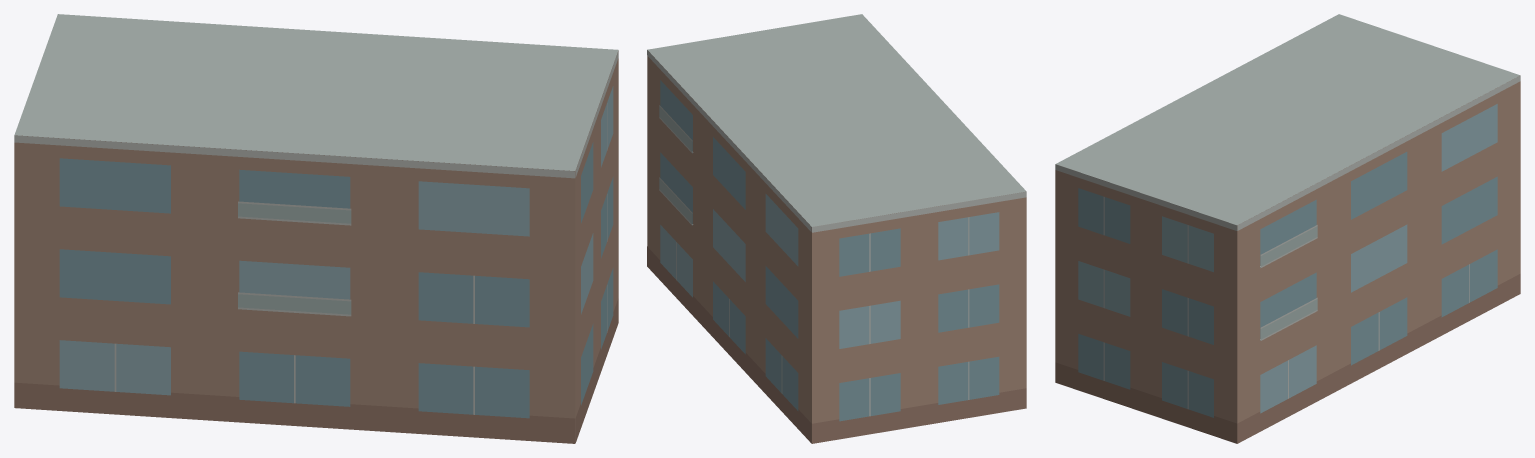
File: residential-4a49e6c8-af27-4ba0-b9b0-89cf427d0d67.glb
3 views of the same model, side by side, from view 1: azimuth 30°, elevation 25°; view 2: azimuth 150°, elevation 25°; view 3: azimuth 270°, elevation 25° (orthographic). The views are drawn at different scales.
Parts seen in each view (by area): view 1: residential-4a49e6c8-af27-4ba0-b9b0-89cf427d0d67.tmp; view 2: residential-4a49e6c8-af27-4ba0-b9b0-89cf427d0d67.tmp; view 3: residential-4a49e6c8-af27-4ba0-b9b0-89cf427d0d67.tmp.
Part boxes in pixels (x1=…): residential-4a49e6c8-af27-4ba0-b9b0-89cf427d0d67.tmp: x1=14, y1=14, x2=618, y2=443; residential-4a49e6c8-af27-4ba0-b9b0-89cf427d0d67.tmp: x1=647, y1=14, x2=1026, y2=443; residential-4a49e6c8-af27-4ba0-b9b0-89cf427d0d67.tmp: x1=1055, y1=14, x2=1520, y2=443.
Bounding box in the file's own units: 18.99 × 9.15 × 17.66.
